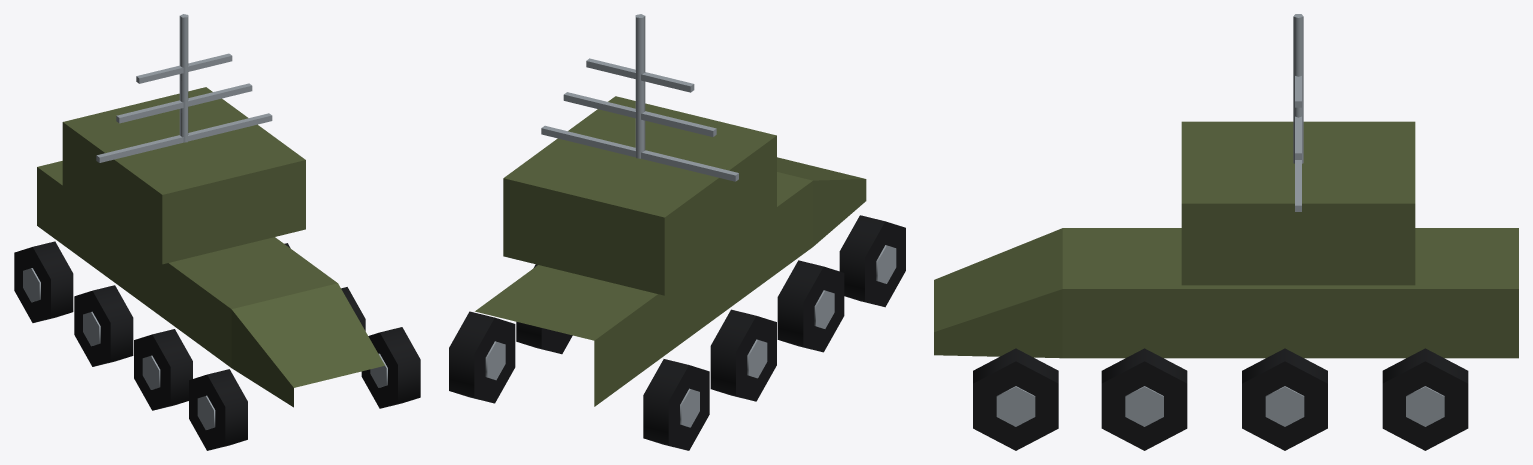
File: veh_ground_jammer_a08_lod1.glb
3 views of the same model, side by side, from view 1: azimuth 30°, elevation 25°; view 2: azimuth 150°, elevation 25°; view 3: azimuth 270°, elevation 25° (orthographic). The views are drawn at different scales.
Parts seen in each view (by area): view 1: body, antenna, wheel_2, wheel_0, wheel_6, wheel_4, wheel_7; view 2: body, antenna, wheel_4, wheel_1, wheel_2, wheel_0, wheel_6, wheel_3; view 3: body, wheel_1, wheel_5, wheel_7, wheel_3, antenna.
Boxes of the visible parts, left/top/right/bottom form: body: left=37, top=87, right=384, bottom=407; antenna: left=96, top=14, right=272, bottom=162; wheel_2: left=74, top=285, right=133, bottom=366; wheel_0: left=14, top=241, right=73, bottom=322; wheel_6: left=189, top=369, right=247, bottom=450; wheel_4: left=134, top=329, right=192, bottom=410; wheel_7: left=361, top=327, right=420, bottom=408; body: left=475, top=96, right=866, bottom=406; antenna: left=541, top=14, right=738, bottom=181; wheel_4: left=777, top=260, right=844, bottom=352; wheel_1: left=449, top=311, right=515, bottom=403; wheel_2: left=710, top=309, right=776, bottom=401; wheel_0: left=643, top=359, right=709, bottom=450; wheel_6: left=839, top=215, right=905, bottom=307; wheel_3: left=516, top=264, right=572, bottom=354; body: left=934, top=121, right=1518, bottom=358; wheel_1: left=1382, top=348, right=1468, bottom=450; wheel_5: left=1101, top=348, right=1187, bottom=450; wheel_7: left=973, top=348, right=1058, bottom=450; wheel_3: left=1242, top=348, right=1327, bottom=450; antenna: left=1293, top=14, right=1303, bottom=211.
Bounding box in the file's own units: 2.98 × 4.65 × 6.5.
